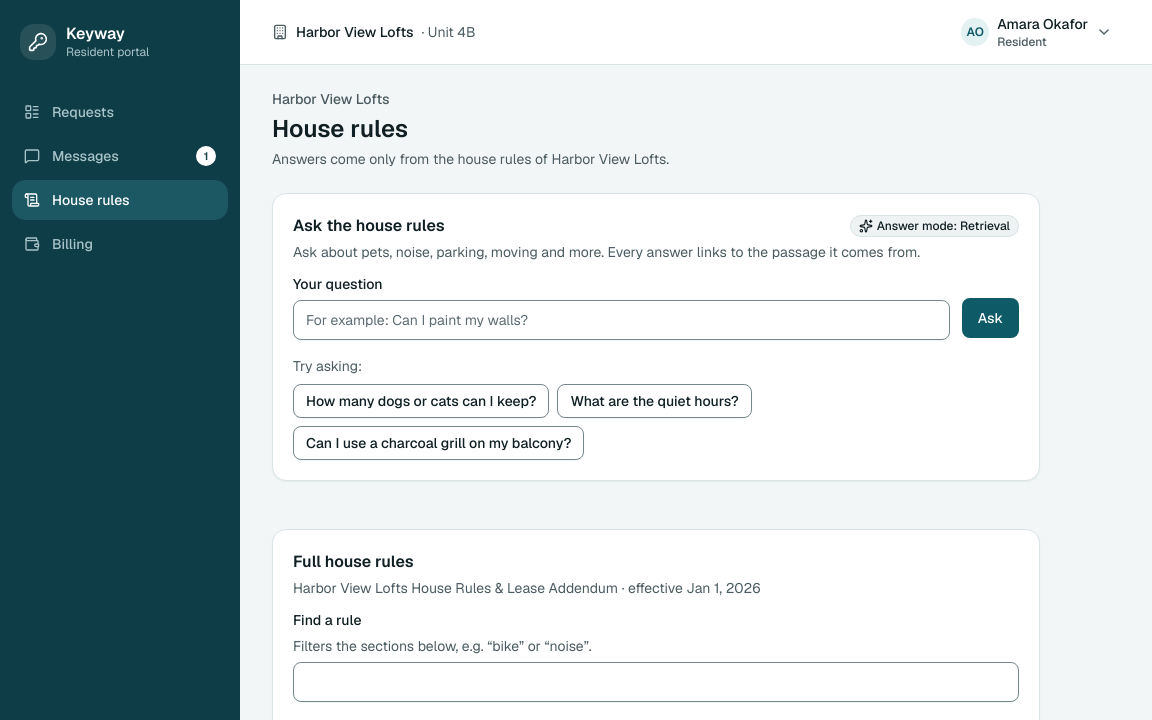
house rules assistant › sends a resident to their coordinator when it doesn't know
The image size is (1152, 720).
Step 1. Type "Is there a swimming pool or gym?" into the field labelled "Your question" → (622, 320), box [293,300,950,340]
Then press Enter
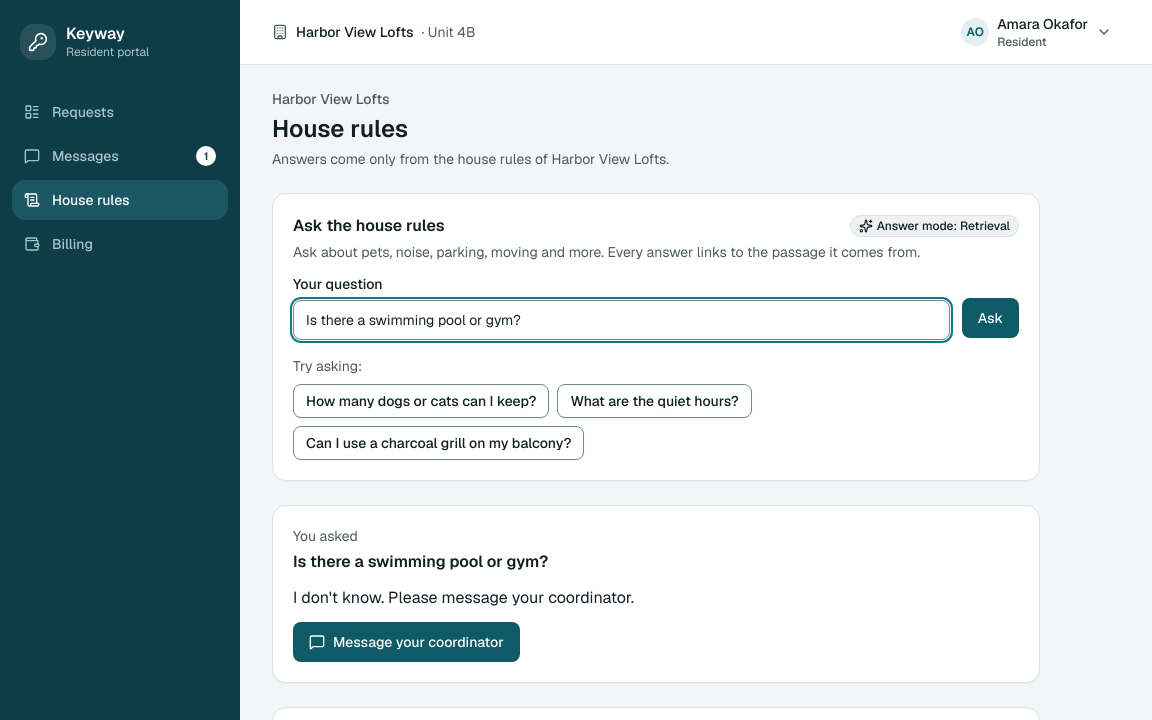
Step 2. Click the link "Message your coordinator" → (407, 642), box [293,622,520,662]
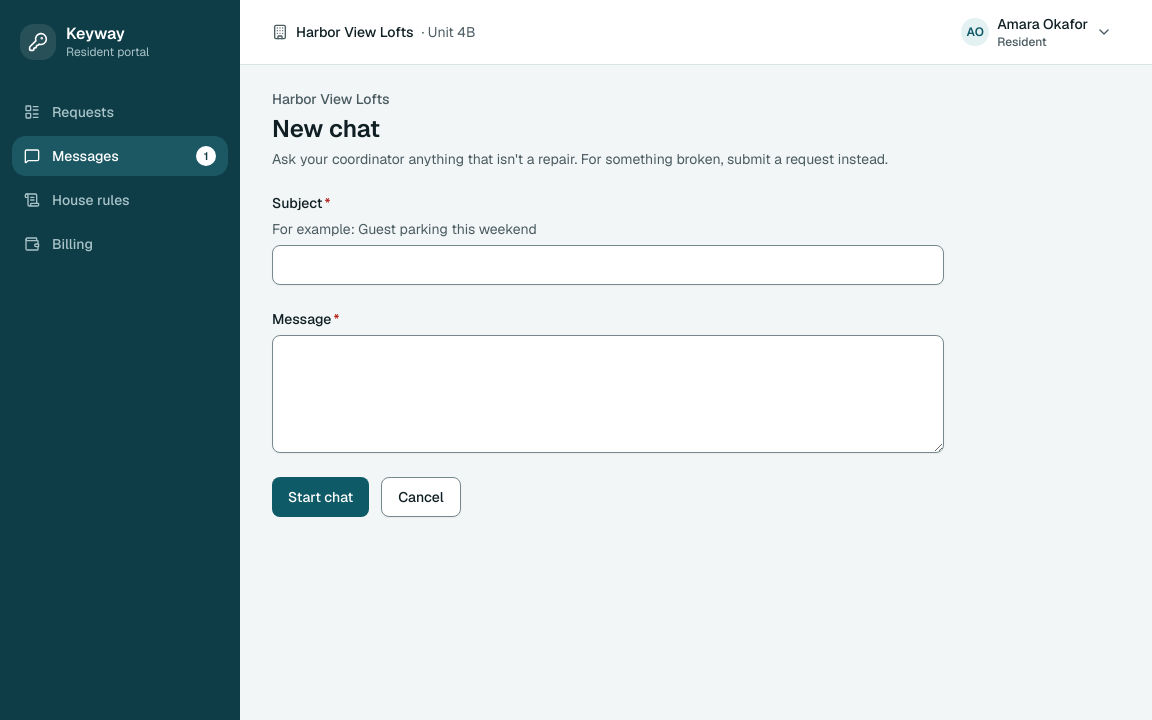
Now the heading "New chat" is shown, box [272,113,380,144]
